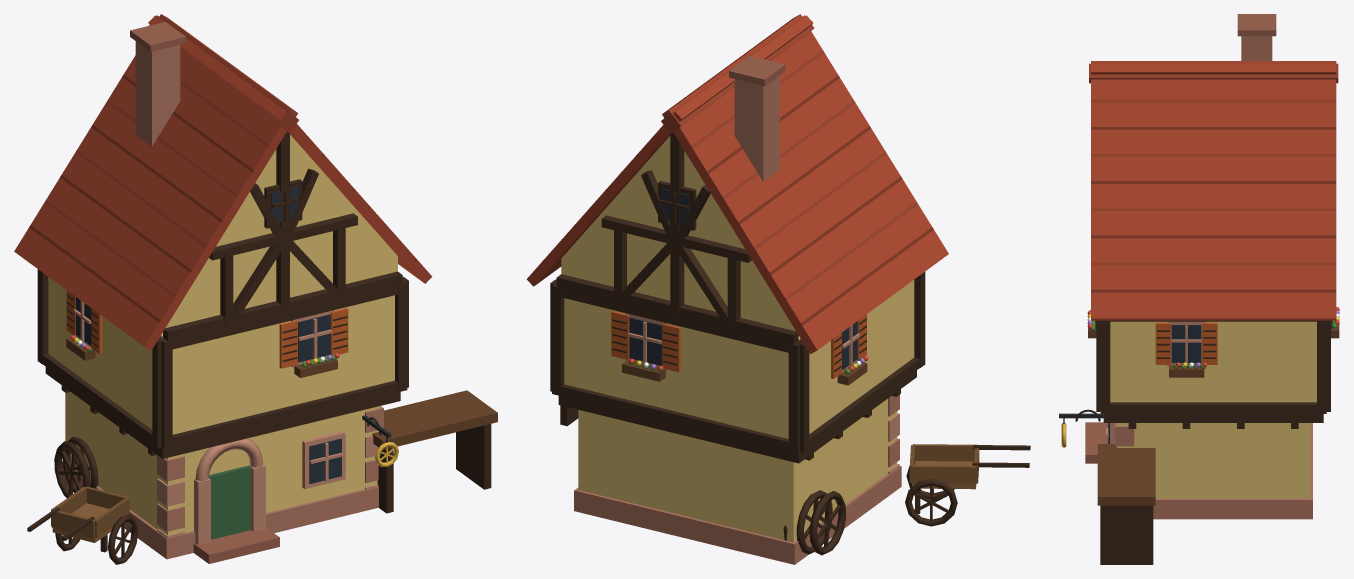
The model's file is wagner.glb.
The picture shows the model from 3 angles, left to right: view 1: azimuth 30°, elevation 25°; view 2: azimuth 150°, elevation 25°; view 3: azimuth 270°, elevation 25°; orthographic projection. The views are drawn at different scales.
Bounding box in the file's own units: 5.13 × 4.9 × 2.91.
